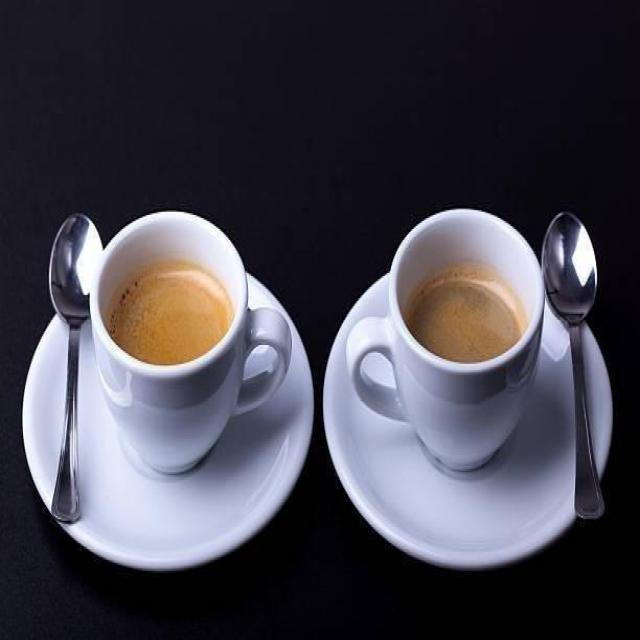cup-handle: (89, 209, 293, 475), (345, 206, 547, 474)
